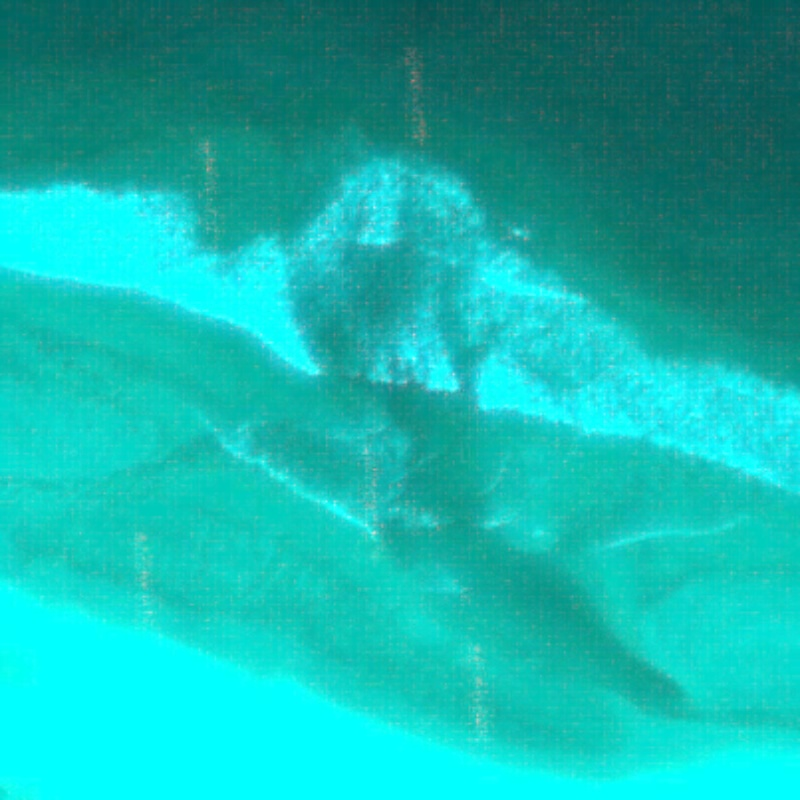rip_current: (240, 82, 557, 536)
